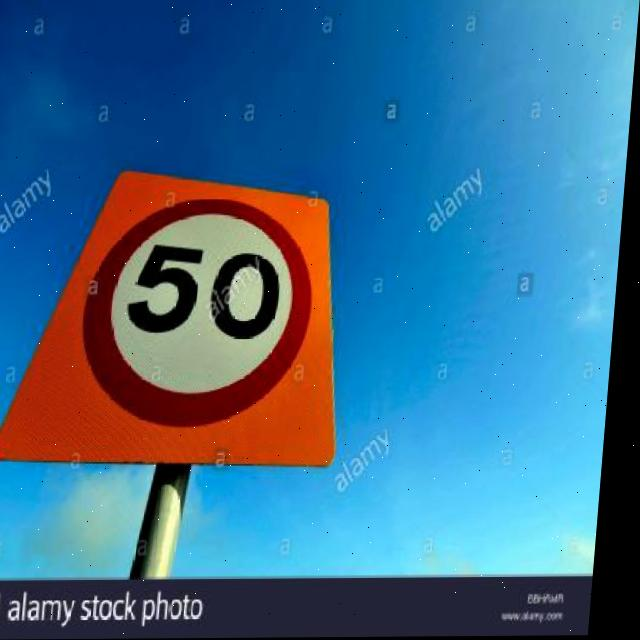Speed limit 50: (1, 167, 364, 473)
